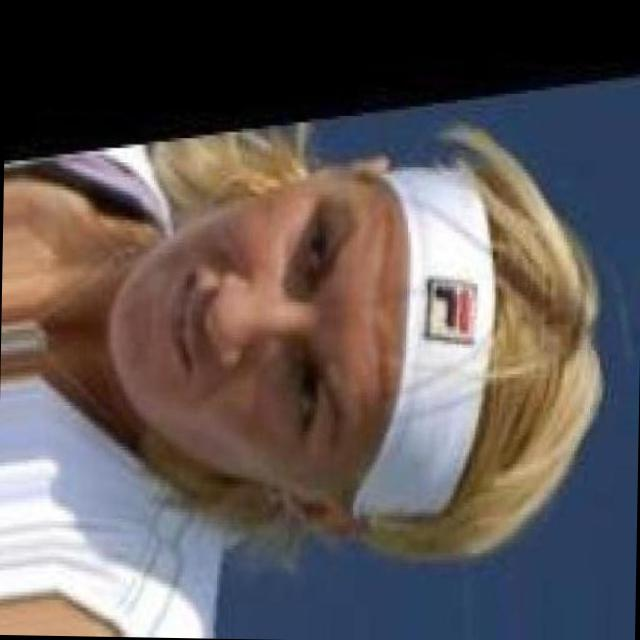bareface: (118, 128, 510, 533)
